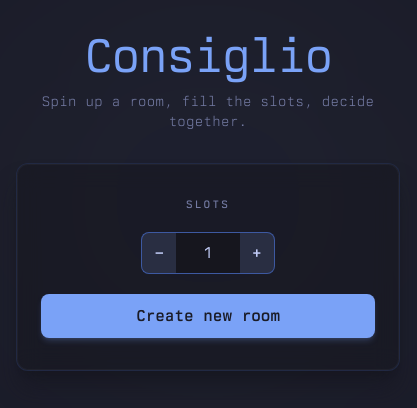
shows error when network fails
Click the button "Create new room" at x=208, y=316, box [41,294,375,338]
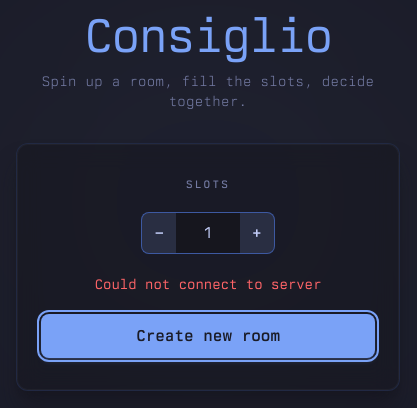
Result: the text "Could not connect to server" is shown at [95,276,321,292]
